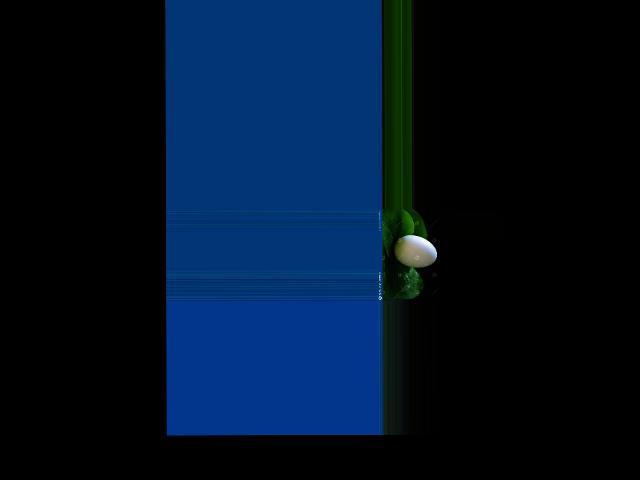egg: (393, 234, 436, 267)
